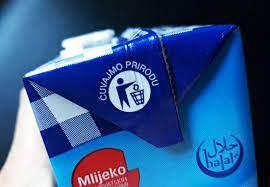cardboard: (18, 28, 183, 186), (155, 25, 256, 186)
